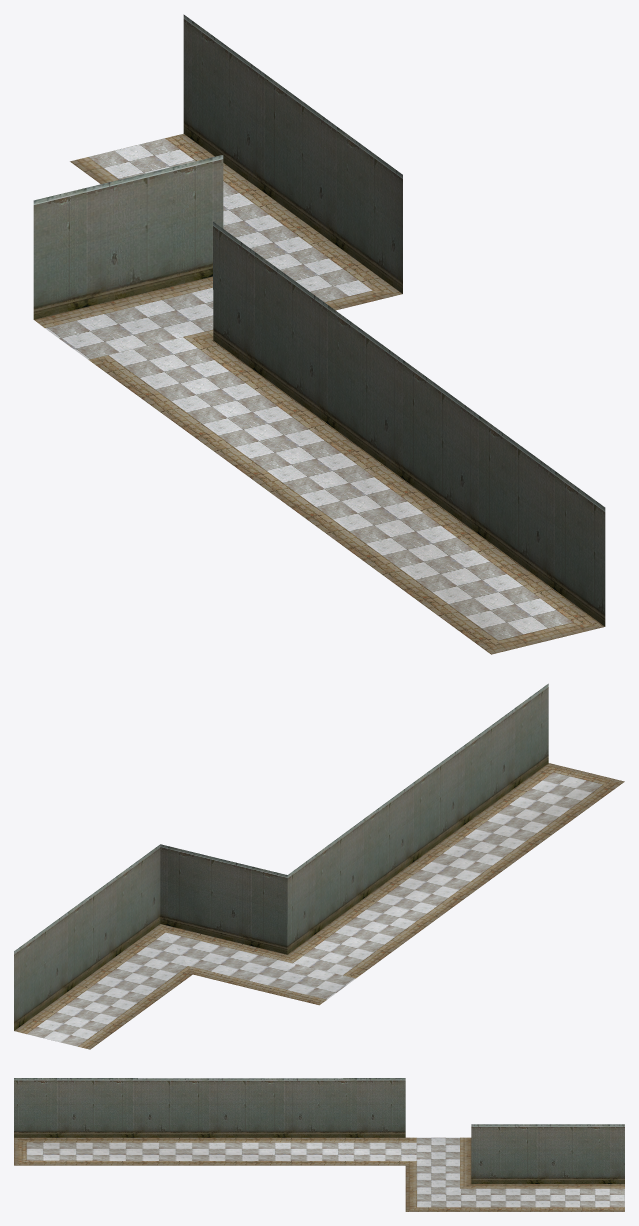
Rendered from M10_NEW_INTERIOR2.glb.
3 views of the same model, one above another, from view 1: azimuth 30°, elevation 25°; view 2: azimuth 150°, elevation 25°; view 3: azimuth 270°, elevation 25° (orthographic). The views are drawn at different scales.
Visible parts, largest first — view 1: M10_NEW_INTERIOR2; view 2: M10_NEW_INTERIOR2; view 3: M10_NEW_INTERIOR2.
Boxes of the visible parts, x1,y1,x2,y2 form: M10_NEW_INTERIOR2: [33, 14, 605, 654]; M10_NEW_INTERIOR2: [14, 683, 624, 1049]; M10_NEW_INTERIOR2: [14, 1078, 624, 1211].
Bounding box in the file's own units: 8 × 3.01 × 27.85.
Materials: 4 (4 with a texture image).
